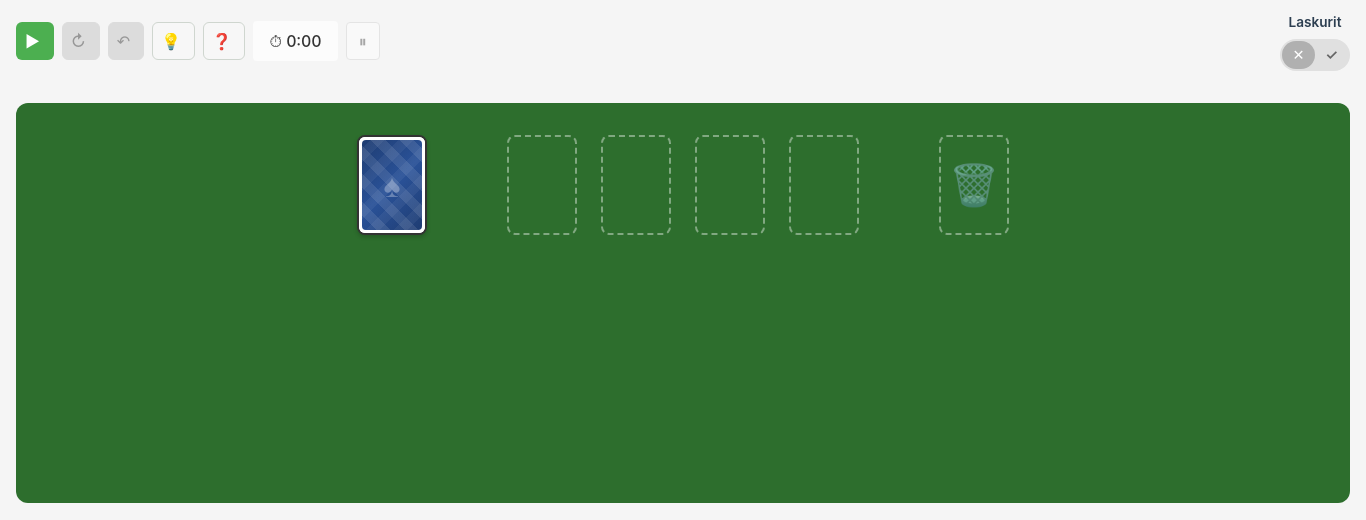
it: AcesUp counter setting › hides the stock counter when toggled off
Note: Find the checkmark button (✓) and click it to enable counters
Click the button "✓". click: click(1332, 55)
box: [1315,41,1348,69]
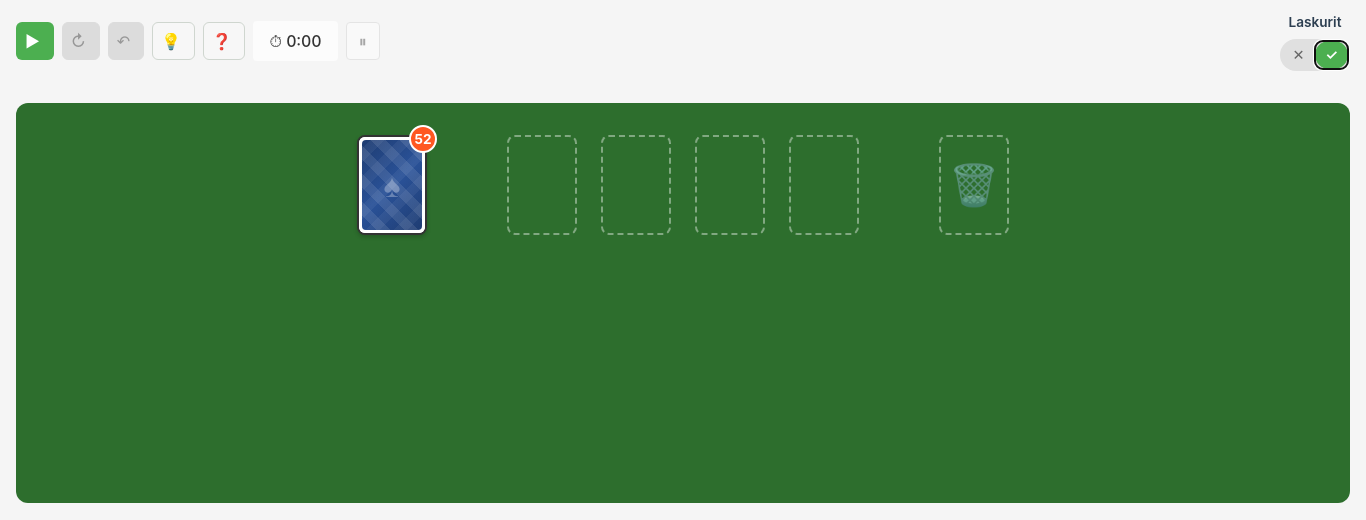
Now the text "52" is shown, box [409,125,437,153]
Note: Click cross (✕) to disable again
Click the button "✕". click: click(1298, 55)
box: [1282,41,1315,69]
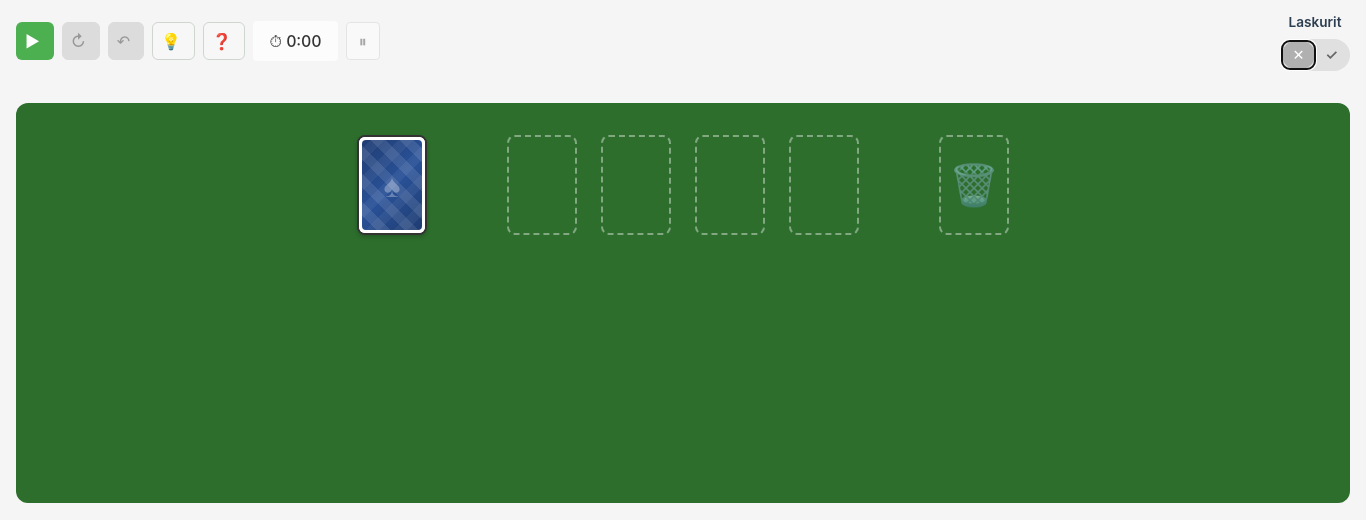
Now the text with class "stock-count" is gone
